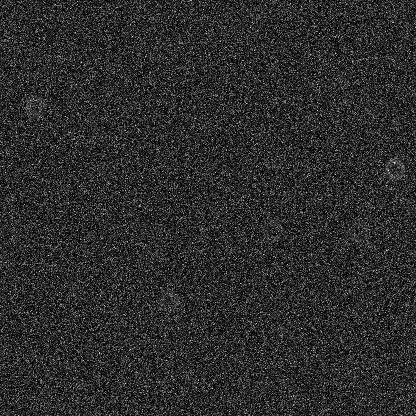Ring: (259, 218, 283, 242), (156, 289, 180, 313), (346, 219, 370, 243), (382, 156, 406, 180), (23, 93, 47, 117), (361, 94, 385, 118)
Spot: (270, 322, 286, 338), (24, 320, 40, 336)
